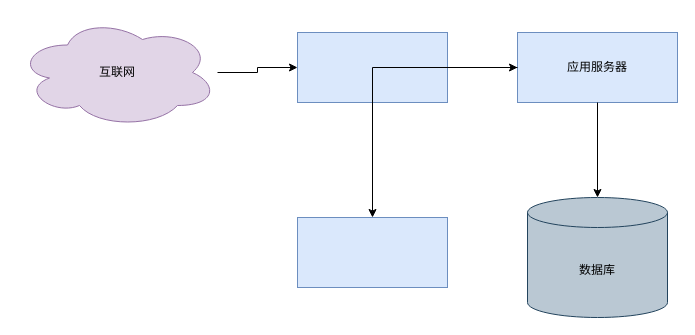
The diagram is 695 pixels wide and 335 high, and some of its shapes have lost their labels. The shapes that lost their labels are listed below. From the top down, each one's centre as x and y in pixels, then its label:
At (x=372, y=67): "防火墙".
At (x=372, y=252): "备份存储".
